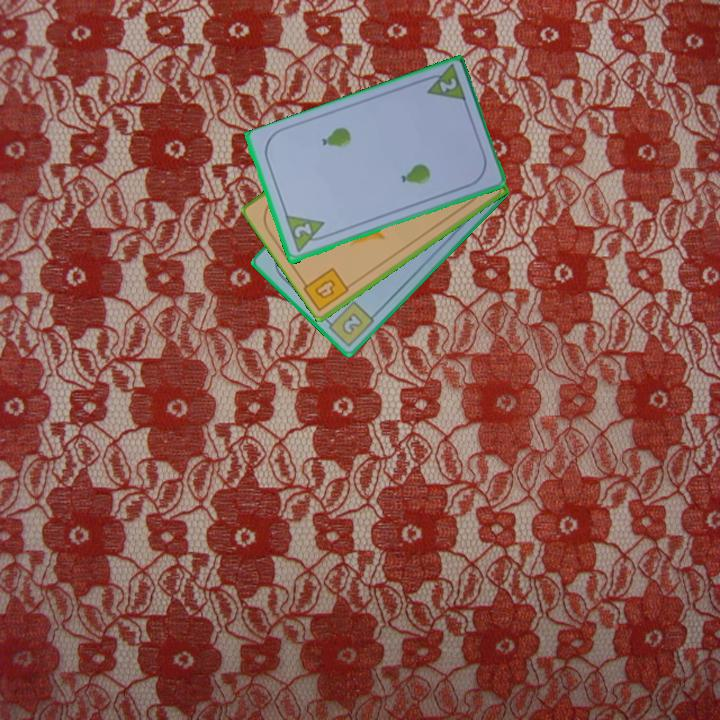2b: (320, 298, 377, 349)
2p: (290, 220, 314, 241), (435, 75, 460, 95)
4b: (311, 276, 339, 302)
